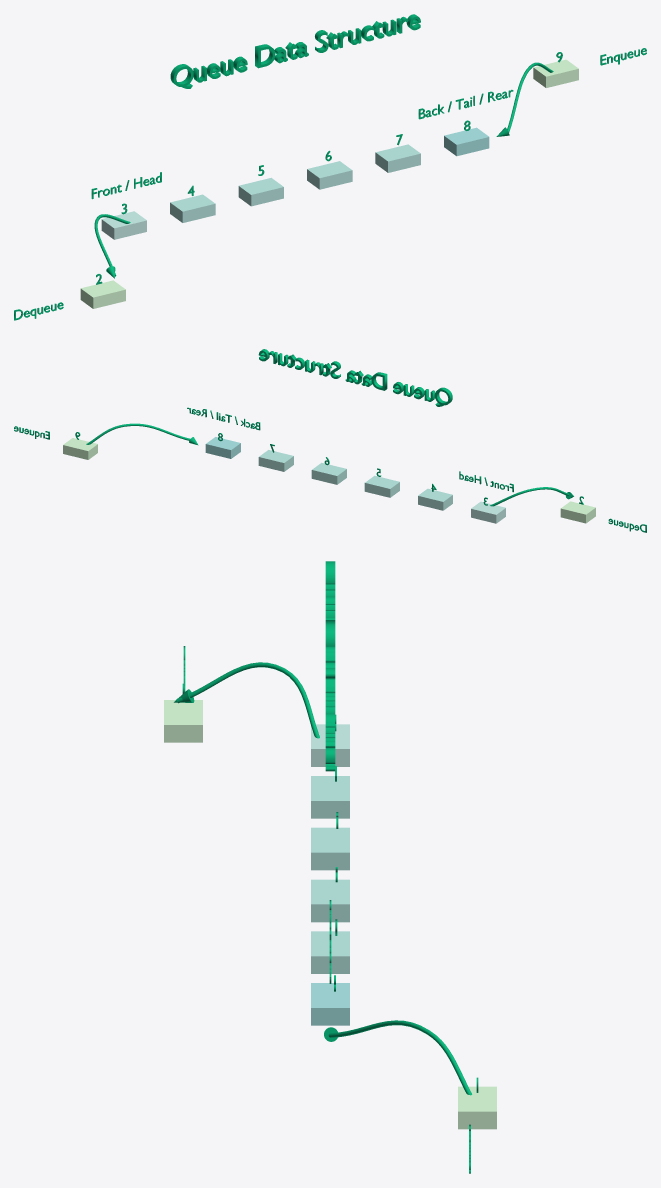
Rendered from queue.glb.
The picture shows the model from 3 angles, top to bottom: view 1: azimuth 30°, elevation 25°; view 2: azimuth 150°, elevation 25°; view 3: azimuth 270°, elevation 25°; orthographic projection. The views are drawn at different scales.
Parts seen in each view (by area): view 1: Text.012, queue_element_6, queue_element_4, queue_element_5, queue_element_7, queue_element_2, queue_element_8, queue_element_9, queue_element_3, Text.009; view 2: Text.012, queue_element_2, queue_element_5, queue_element_7, queue_element_6, queue_element_8, queue_element_4, queue_element_9, queue_element_3, Text.009, enqueue_arrow; view 3: Text.012, queue_element_5, queue_element_6, queue_element_4, queue_element_8, queue_element_9, queue_element_7, queue_element_2, queue_element_3, dequeue_arrow, enqueue_arrow.
Boxes of the visible parts, left/top/right/bottom form: Text.012: left=170, top=14, right=420, bottom=88; queue_element_6: left=307, top=161, right=352, bottom=189; queue_element_4: left=170, top=194, right=215, bottom=222; queue_element_5: left=238, top=177, right=283, bottom=206; queue_element_7: left=375, top=144, right=420, bottom=172; queue_element_2: left=80, top=280, right=125, bottom=308; queue_element_8: left=444, top=127, right=489, bottom=156; queue_element_9: left=533, top=59, right=578, bottom=87; queue_element_3: left=101, top=211, right=146, bottom=239; Text.009: left=418, top=89, right=513, bottom=119; Text.012: left=258, top=349, right=452, bottom=406; queue_element_2: left=560, top=501, right=595, bottom=523; queue_element_5: left=364, top=475, right=399, bottom=497; queue_element_7: left=258, top=450, right=293, bottom=471; queue_element_6: left=311, top=462, right=346, bottom=484; queue_element_8: left=205, top=437, right=240, bottom=458; queue_element_4: left=418, top=488, right=452, bottom=510; queue_element_9: left=63, top=438, right=97, bottom=459; queue_element_3: left=471, top=501, right=505, bottom=523; Text.009: left=187, top=407, right=260, bottom=430; enqueue_arrow: left=86, top=423, right=190, bottom=444; Text.012: left=325, top=561, right=335, bottom=771; queue_element_5: left=311, top=827, right=349, bottom=870; queue_element_6: left=311, top=879, right=349, bottom=922; queue_element_4: left=311, top=776, right=349, bottom=818; queue_element_8: left=311, top=983, right=349, bottom=1025; queue_element_9: left=458, top=1086, right=496, bottom=1129; queue_element_7: left=311, top=931, right=349, bottom=973; queue_element_2: left=164, top=700, right=202, bottom=742; queue_element_3: left=311, top=724, right=349, bottom=766; dequeue_arrow: left=176, top=662, right=319, bottom=738; enqueue_arrow: left=328, top=1020, right=471, bottom=1095.
Size of the model in its own units: 26.45 by 5.97 by 6.8.
